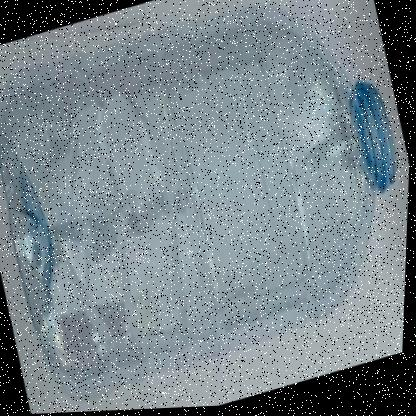open bottle: (233, 1, 416, 340)
